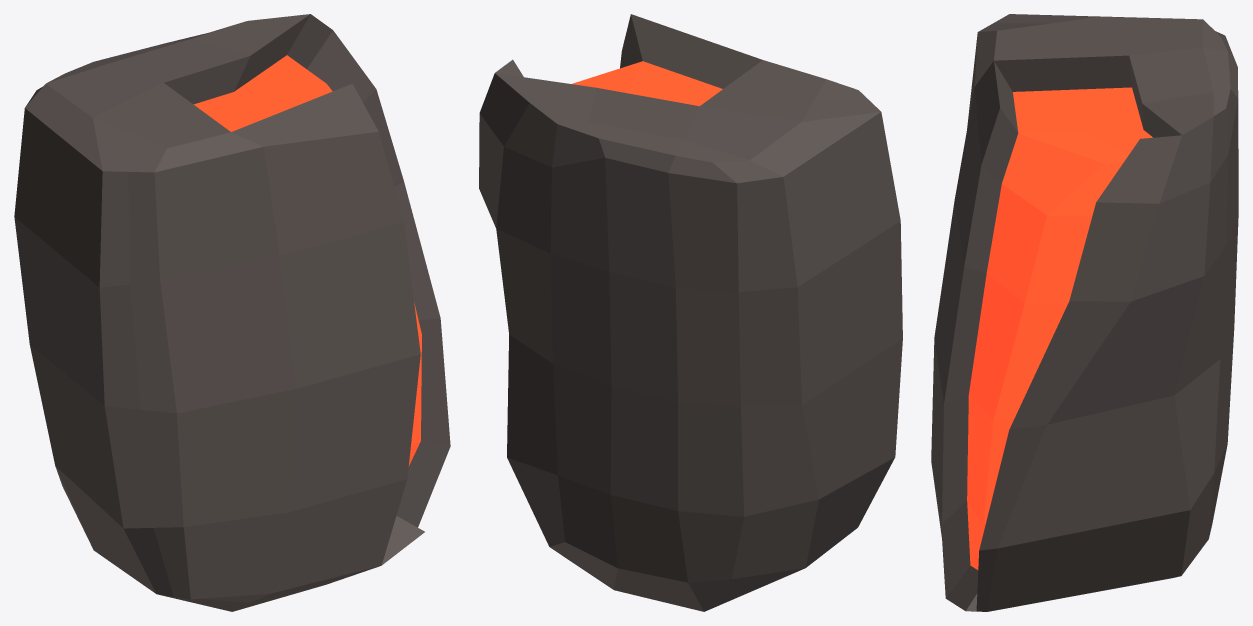
File: Rock Lava 3.fbx
The picture shows the model from 3 angles, left to right: view 1: azimuth 30°, elevation 25°; view 2: azimuth 150°, elevation 25°; view 3: azimuth 270°, elevation 25°; orthographic projection. The views are drawn at different scales.
Parts seen in each view (by area): view 1: Rock Lava 3; view 2: Rock Lava 3; view 3: Rock Lava 3.
Part boxes in pixels (bbox=[...]): Rock Lava 3: bbox=[14, 14, 450, 611]; Rock Lava 3: bbox=[479, 14, 902, 611]; Rock Lava 3: bbox=[931, 14, 1238, 611].
Bounding box in the file's own units: 212 × 283 × 153.
